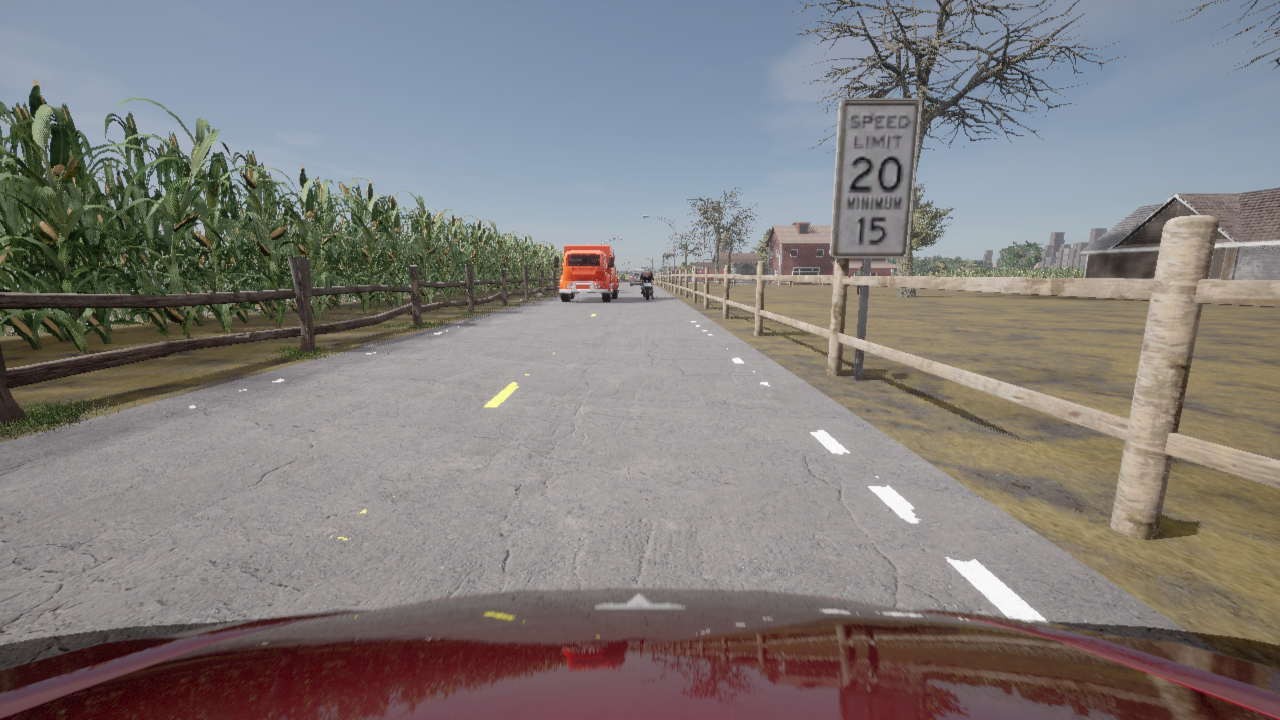cyclist: (0, 588, 1279, 719), (554, 245, 618, 301), (638, 275, 655, 299), (630, 271, 644, 286), (633, 269, 644, 272)
pedestrian: (855, 266, 861, 295)
